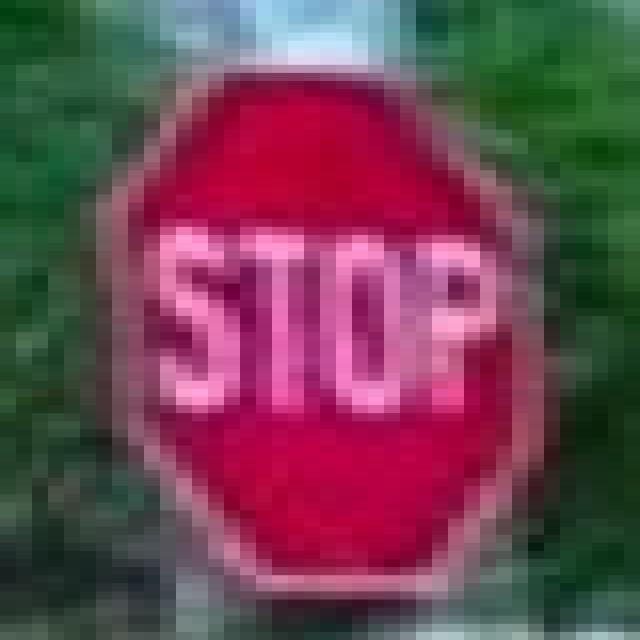Stop-Sign: (133, 74, 526, 582)
